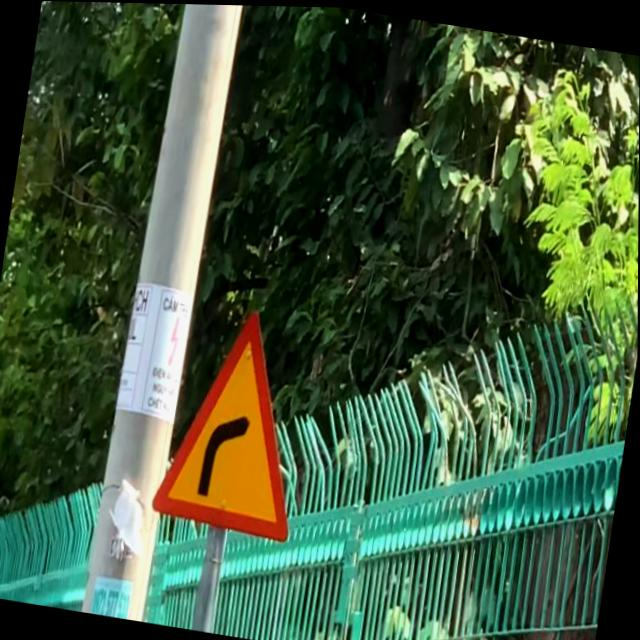cho ngoat nguy hiem vong ben phai: (147, 294, 325, 546)
